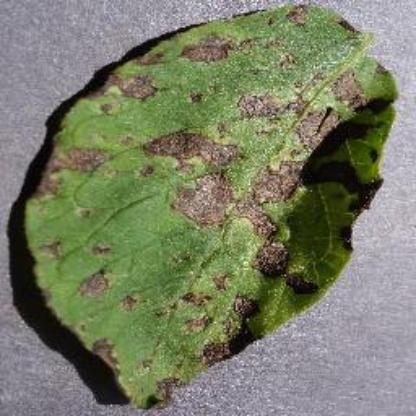Early-Blight: (19, 4, 395, 410)
